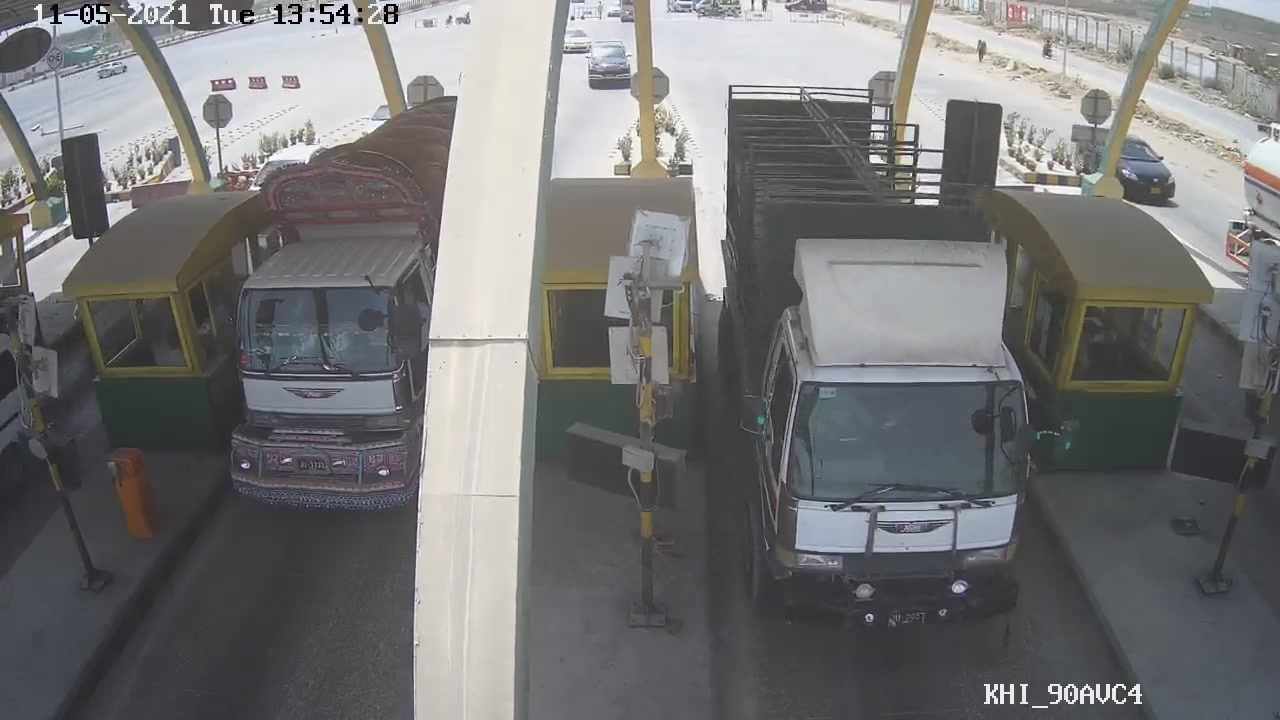F5: (712, 59, 1066, 646)
